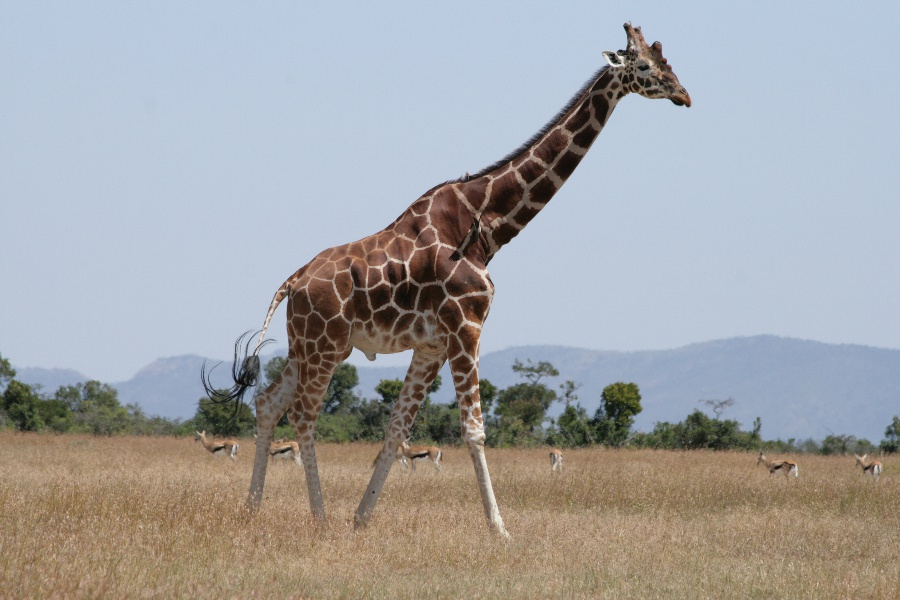giraffe: (231, 6, 699, 532)
